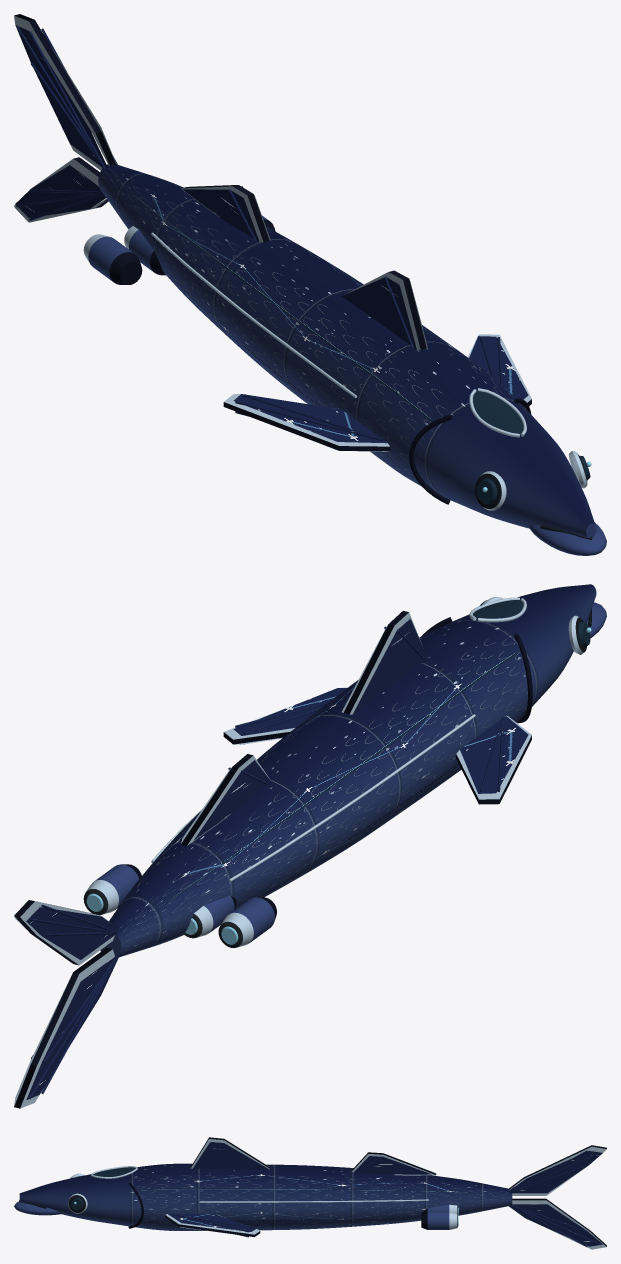
3 views of the same model, one above another, from view 1: azimuth 30°, elevation 25°; view 2: azimuth 150°, elevation 25°; view 3: azimuth 270°, elevation 25° (orthographic). The views are drawn at different scales.
Visible parts, largest first — view 1: barracuda_hull; view 2: barracuda_hull; view 3: barracuda_hull.
Boxes of the visible parts, bbox=[...] form: barracuda_hull: bbox=[14, 14, 606, 555]; barracuda_hull: bbox=[14, 584, 606, 1108]; barracuda_hull: bbox=[14, 1137, 606, 1249].
Size of the model in its own units: 10.99 by 8.25 by 40.
Materials: 1 (1 with a texture image).
